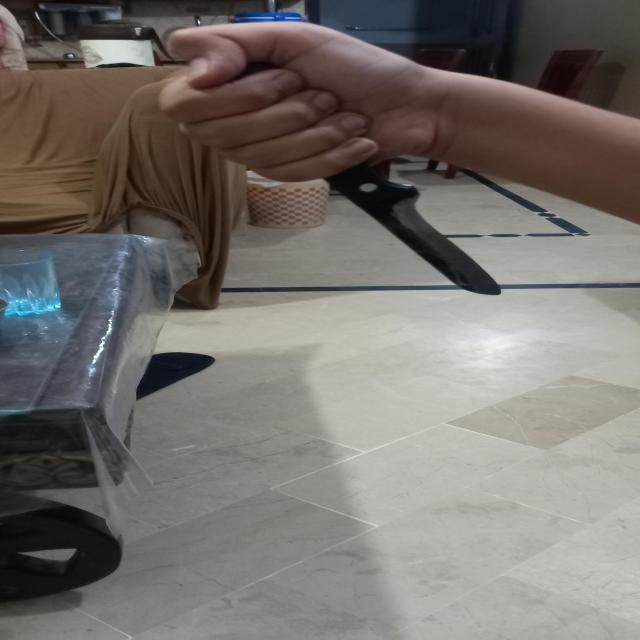Knife: (234, 64, 505, 294)
Person: (157, 20, 640, 223)
